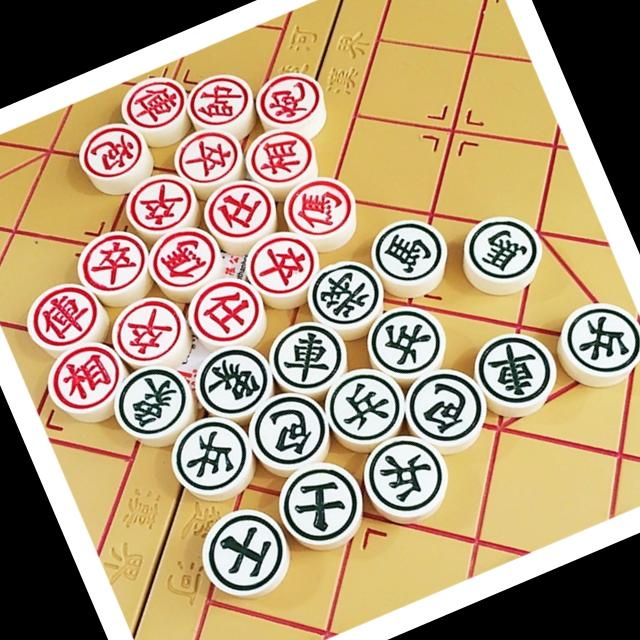black-advisor: (269, 450, 374, 558), (192, 500, 296, 604)
black-cannon: (240, 384, 340, 482), (398, 360, 494, 454)
black-chariot: (469, 320, 564, 416), (264, 312, 354, 399)
black-elephant: (184, 336, 281, 427), (106, 359, 196, 443)
black-general: (297, 248, 393, 339)
black-horse: (459, 204, 550, 296), (366, 208, 456, 295)
black-soldier: (353, 426, 458, 528), (160, 405, 260, 505), (553, 286, 640, 391), (320, 361, 411, 452), (362, 296, 452, 388)
red-advisor: (180, 268, 272, 354), (198, 170, 282, 250)
red-cannon: (66, 111, 155, 190), (248, 61, 332, 135)
red-chariot: (20, 276, 109, 355), (114, 65, 195, 138)
red-elephant: (41, 337, 128, 418), (239, 118, 320, 194)
red-general: (184, 62, 258, 133)
red-horse: (274, 166, 364, 249), (142, 217, 228, 297)
red-soldier: (238, 222, 324, 306), (107, 290, 194, 371), (164, 116, 251, 195), (70, 223, 156, 302), (117, 164, 203, 241)
